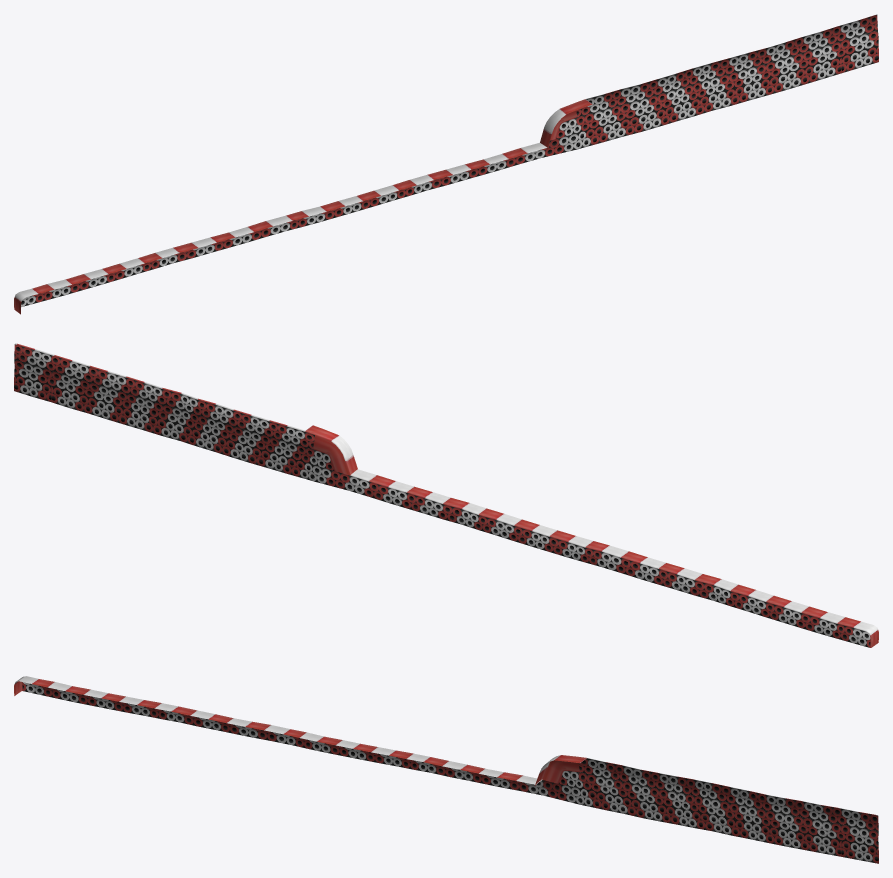
The model's file is _1WALL_tires01_05_002_SUB0.obj.
3 views of the same model, one above another, from view 1: azimuth 30°, elevation 25°; view 2: azimuth 150°, elevation 25°; view 3: azimuth 330°, elevation 25° (orthographic).
Visible parts, largest first — view 1: _1WALL_tires01_05_002_SUB0_Scene.382; view 2: _1WALL_tires01_05_002_SUB0_Scene.382; view 3: _1WALL_tires01_05_002_SUB0_Scene.382.
Part boxes in pixels (x1,y1,x2,y2): _1WALL_tires01_05_002_SUB0_Scene.382: [14, 14, 878, 314]; _1WALL_tires01_05_002_SUB0_Scene.382: [14, 343, 878, 647]; _1WALL_tires01_05_002_SUB0_Scene.382: [14, 676, 878, 863].
Size of the model in its own units: 7315 by 733 by 178.
